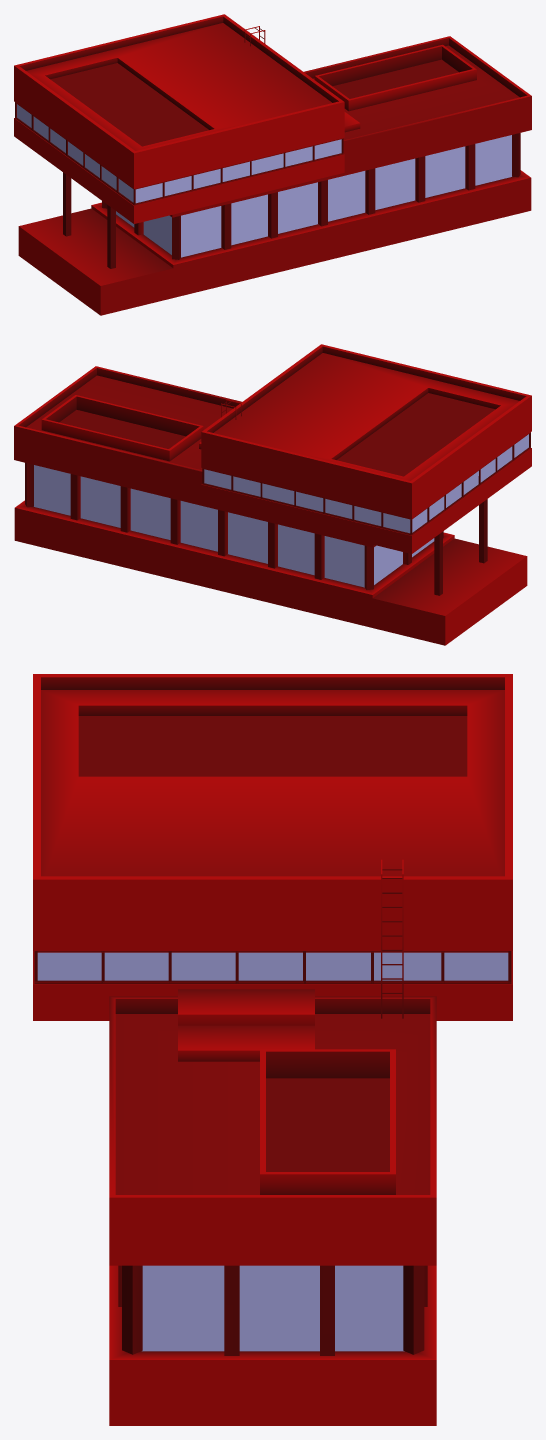
The model's file is buildings-industrial-industrialbuilding_v3.fbx.
3 views of the same model, one above another, from view 1: azimuth 30°, elevation 25°; view 2: azimuth 150°, elevation 25°; view 3: azimuth 270°, elevation 25° (orthographic). The views are drawn at different scales.
Parts seen in each view (by area): view 1: IndustrialBuilding_v3_base, IndustrialBuilding_v3_windowRefl; view 2: IndustrialBuilding_v3_base, IndustrialBuilding_v3_windowRefl; view 3: IndustrialBuilding_v3_base, IndustrialBuilding_v3_windowRefl.
Boxes of the visible parts, x1,y1,x2,y2 form: IndustrialBuilding_v3_base: (14, 14, 531, 315); IndustrialBuilding_v3_windowRefl: (17, 104, 511, 257); IndustrialBuilding_v3_base: (14, 344, 531, 645); IndustrialBuilding_v3_windowRefl: (34, 434, 528, 587); IndustrialBuilding_v3_base: (33, 674, 512, 1425); IndustrialBuilding_v3_windowRefl: (37, 952, 508, 1351).
Bounding box in the file's own units: 48.49 × 19.25 × 23.37.
